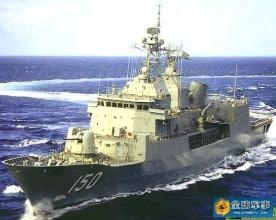warship: (5, 16, 276, 208)
